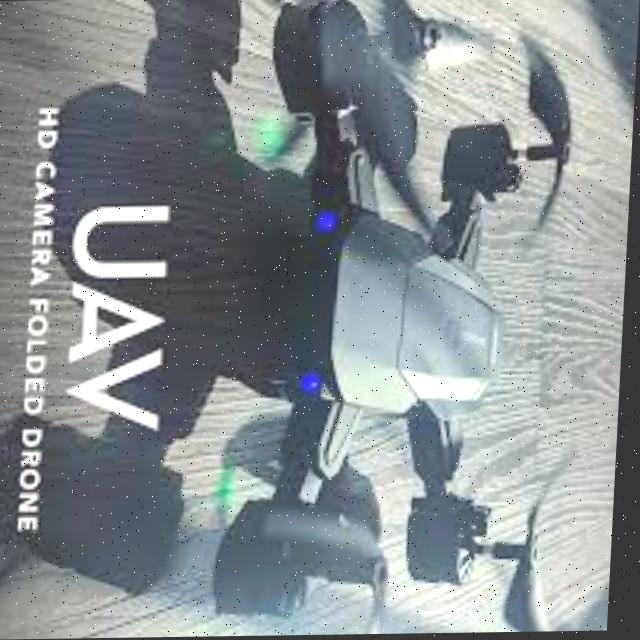drone: (218, 0, 598, 637)
